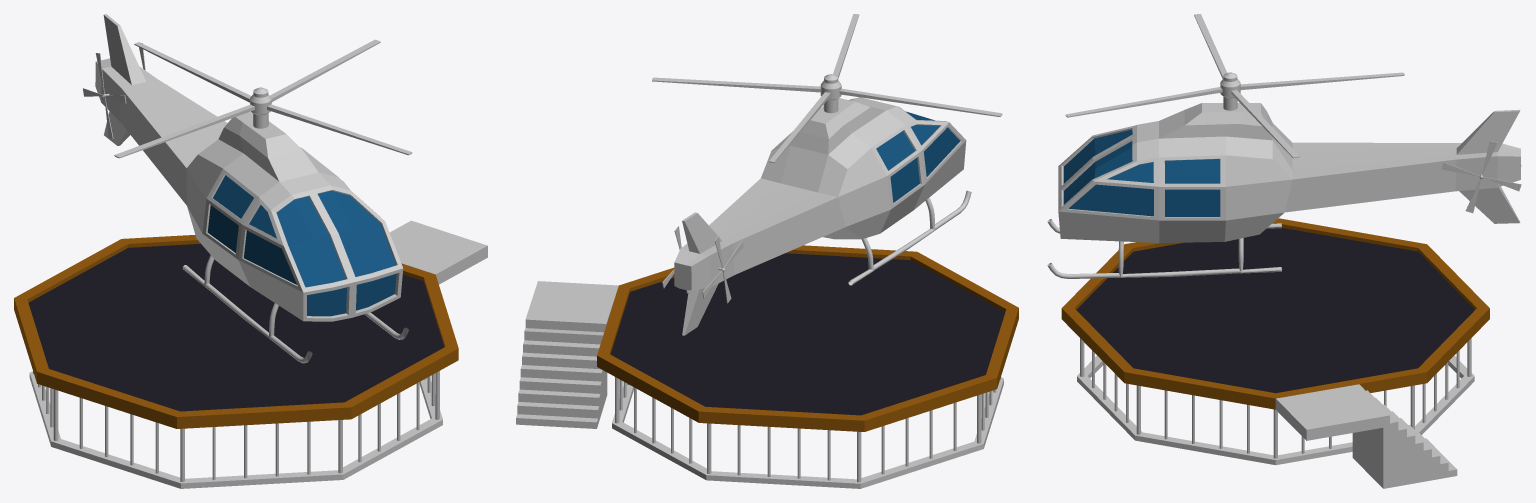
Rendered from copter_000012.obj.
3 views of the same model, side by side, from view 1: azimuth 30°, elevation 25°; view 2: azimuth 150°, elevation 25°; view 3: azimuth 270°, elevation 25° (orthographic). The views are drawn at different scales.
Parts seen in each view (by area): view 1: Cylinder.001_Cylinder.012, Helicopter.007_Cylinder.008, Helicopter.001_Cylinder.001, Cylinder.004, Cylinder.003_Cylinder.005, Cylinder.002, Helicopter.004_Cylinder.005; view 2: Cylinder.001_Cylinder.012, Helicopter.007_Cylinder.008, Helicopter.001_Cylinder.001, Cylinder.004, Cylinder.003_Cylinder.005, Cylinder.002; view 3: Cylinder.001_Cylinder.012, Helicopter.007_Cylinder.008, Helicopter.001_Cylinder.001, Cylinder.004, Cylinder.002, Cylinder.003_Cylinder.005, Helicopter.003_Cylinder.004.
Part boxes in pixels (bbox=[...]): Cylinder.001_Cylinder.012: bbox=[14, 220, 487, 488]; Helicopter.007_Cylinder.008: bbox=[95, 14, 408, 363]; Helicopter.001_Cylinder.001: bbox=[114, 39, 412, 158]; Cylinder.004: bbox=[212, 382, 419, 479]; Cylinder.003_Cylinder.005: bbox=[38, 373, 434, 473]; Cylinder.002: bbox=[33, 371, 439, 481]; Helicopter.004_Cylinder.005: bbox=[83, 53, 126, 138]; Cylinder.001_Cylinder.012: bbox=[516, 245, 1018, 488]; Helicopter.007_Cylinder.008: bbox=[674, 97, 971, 335]; Helicopter.001_Cylinder.001: bbox=[652, 14, 1002, 162]; Cylinder.004: bbox=[634, 387, 830, 480]; Cylinder.003_Cylinder.005: bbox=[619, 379, 996, 474]; Cylinder.002: bbox=[615, 377, 1000, 482]; Cylinder.001_Cylinder.012: bbox=[1061, 218, 1489, 488]; Helicopter.007_Cylinder.008: bbox=[1047, 103, 1520, 278]; Helicopter.001_Cylinder.001: bbox=[1065, 14, 1404, 158]; Cylinder.004: bbox=[1092, 350, 1459, 422]; Cylinder.002: bbox=[1080, 338, 1471, 458]; Cylinder.003_Cylinder.005: bbox=[1164, 390, 1386, 453]; Helicopter.003_Cylinder.004: bbox=[1441, 140, 1521, 212].
Bounding box in the file's own units: 7.94 × 5.37 × 7.5.
